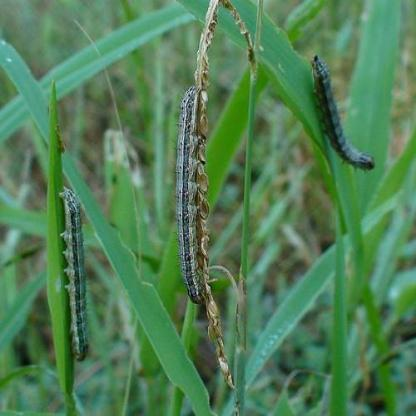armyworm: (173, 79, 210, 318), (310, 44, 376, 176), (51, 180, 92, 367)
